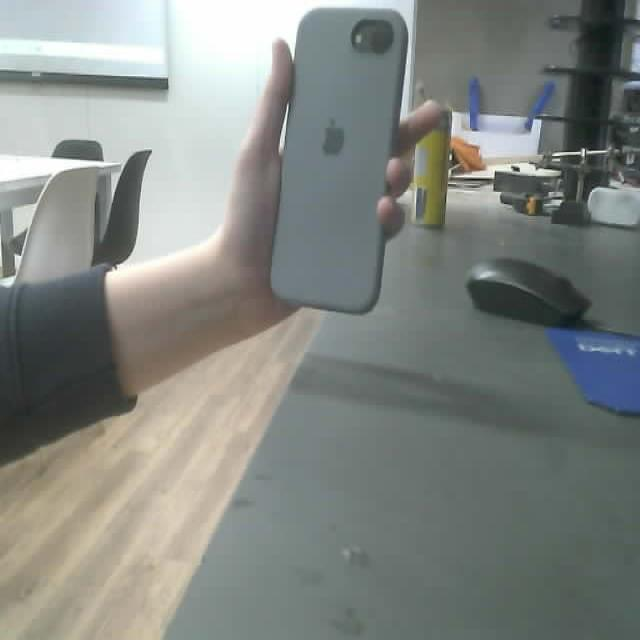phone: (270, 8, 410, 315)
